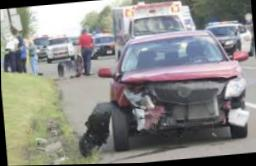Bumper: (112, 89, 247, 134)
Light: (124, 86, 151, 105)
